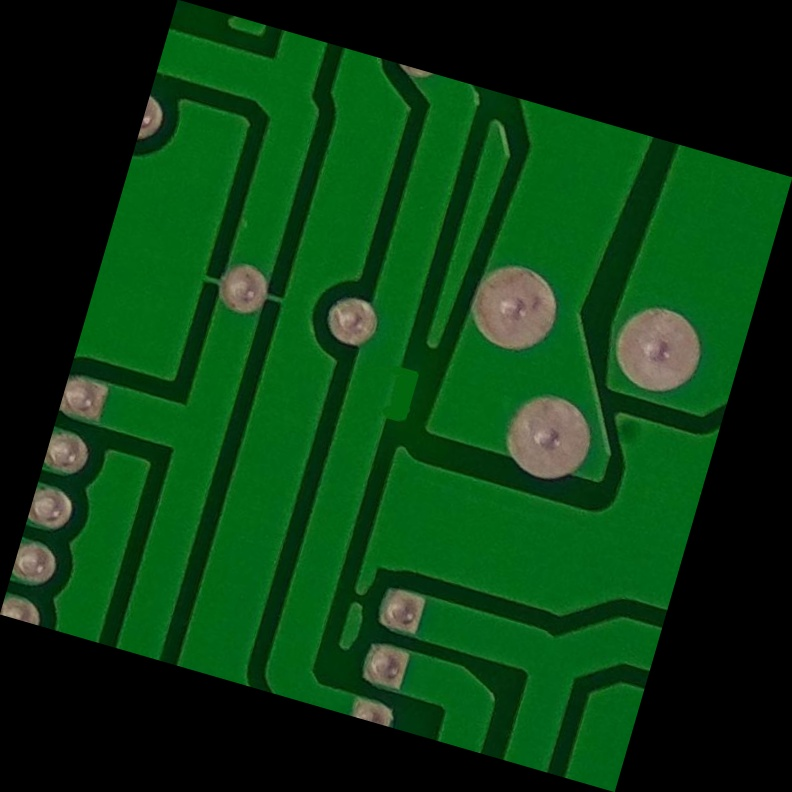spur: (356, 345, 435, 448)
